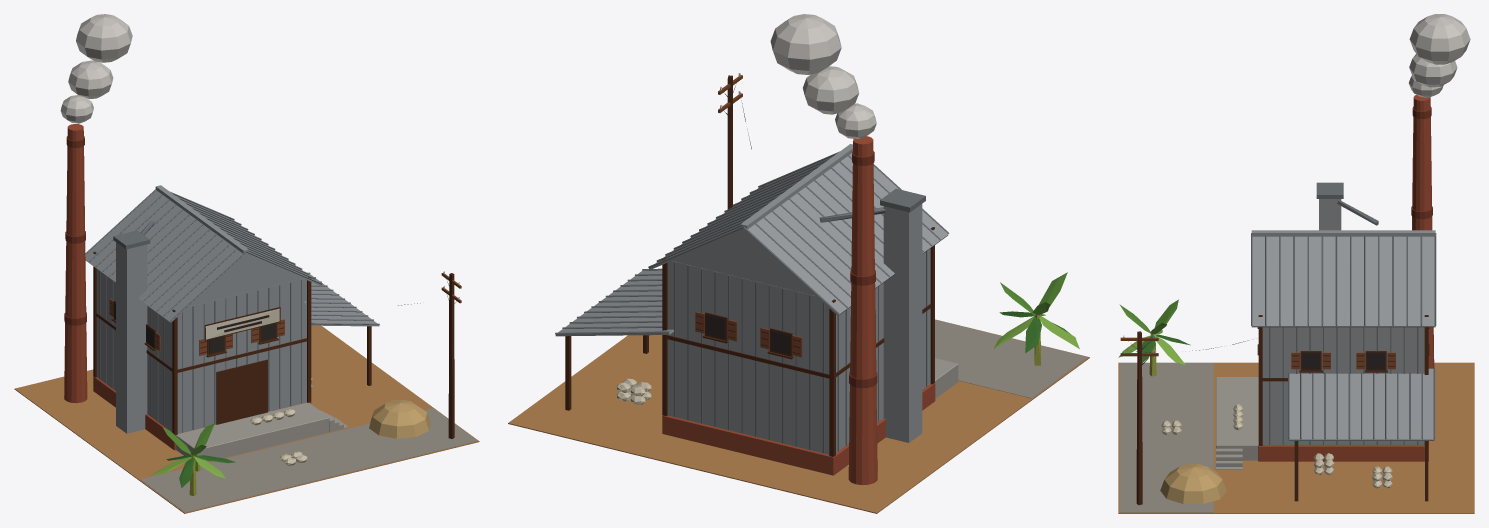
File: factory_3.glb
3 views of the same model, side by side, from view 1: azimuth 30°, elevation 25°; view 2: azimuth 150°, elevation 25°; view 3: azimuth 270°, elevation 25° (orthographic). The views are drawn at different scales.
Visible parts, largest first — view 1: body, windows; view 2: body, windows; view 3: body, windows.
Part boxes in pixels (x1=…): body: x1=14, y1=14, x2=479, y2=513; windows: x1=114, y1=303, x2=275, y2=353; body: x1=508, y1=14, x2=1089, y2=513; windows: x1=706, y1=315, x2=789, y2=354; body: x1=1118, y1=14, x2=1474, y2=513; windows: x1=1302, y1=353, x2=1384, y2=369.
Bounding box in the file's own units: 16.62 × 18.88 × 15.91.
